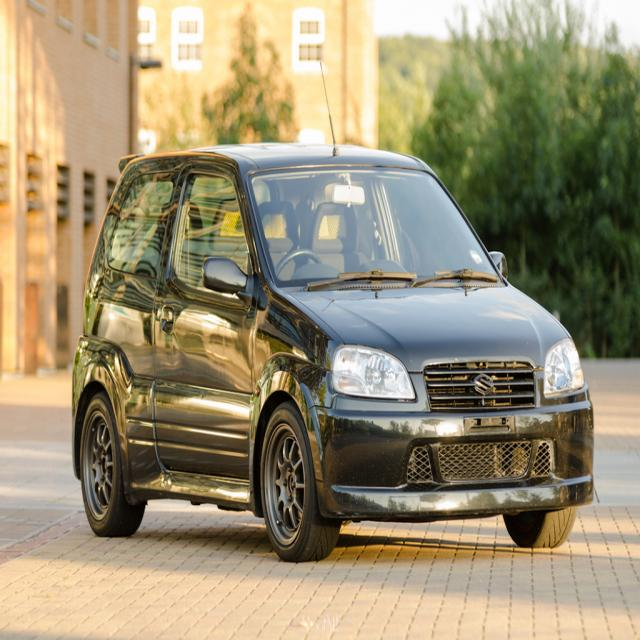car: (69, 55, 597, 563)
